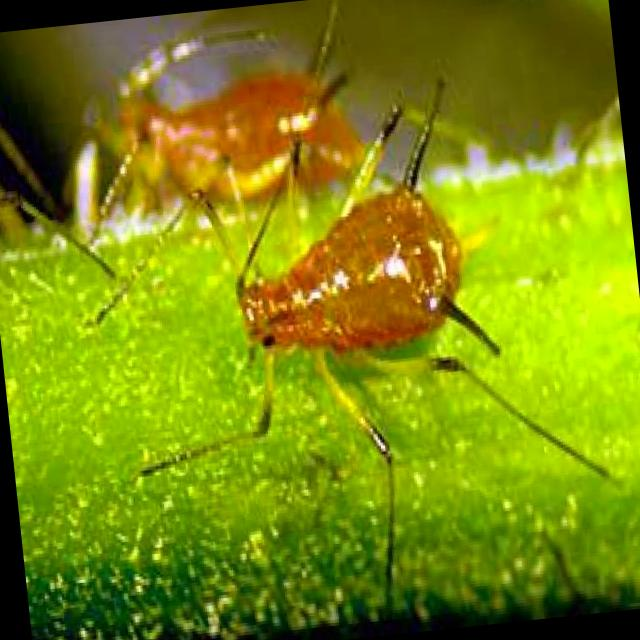aphid: (165, 148, 572, 530), (77, 9, 360, 222)
